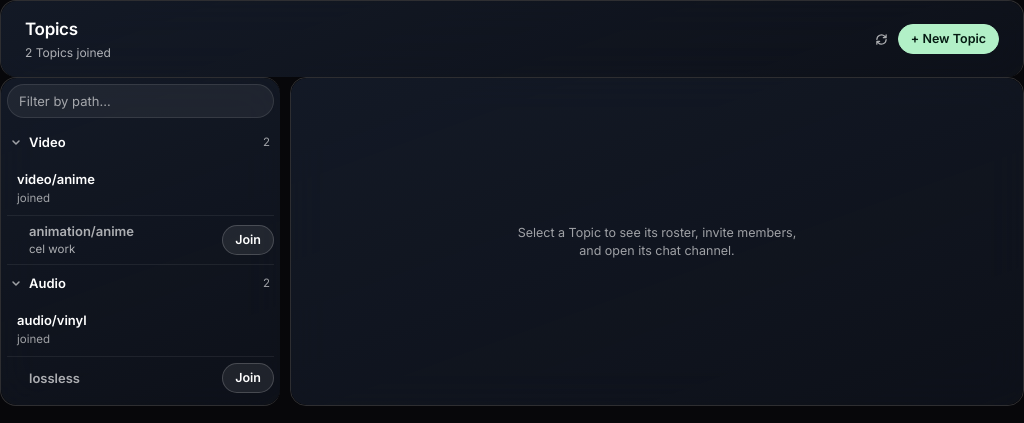
Scenario: Hoardbook Topics draft r1 — Discover search (one-tree form, QURATOR-144 W2) › shows the empty result line for a query that matches nothing
expect the button with class "root-header" showing "video 2" is shown: met, box [7,124,274,161]
Type "zzz-no-such-topic" into the search field with placeholder "Filter by path…" at (140, 101), box [7,84,274,118]
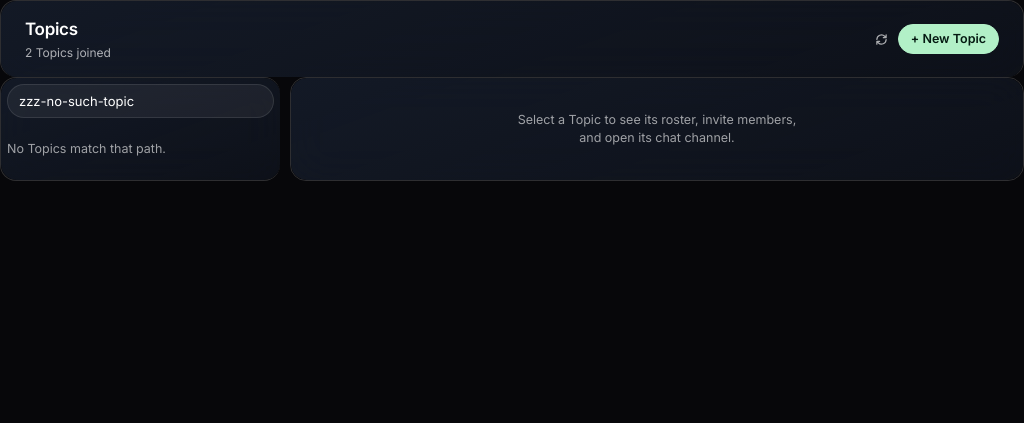
expect the text "No Topics match that path." is shown: met, box [7,140,166,158]
